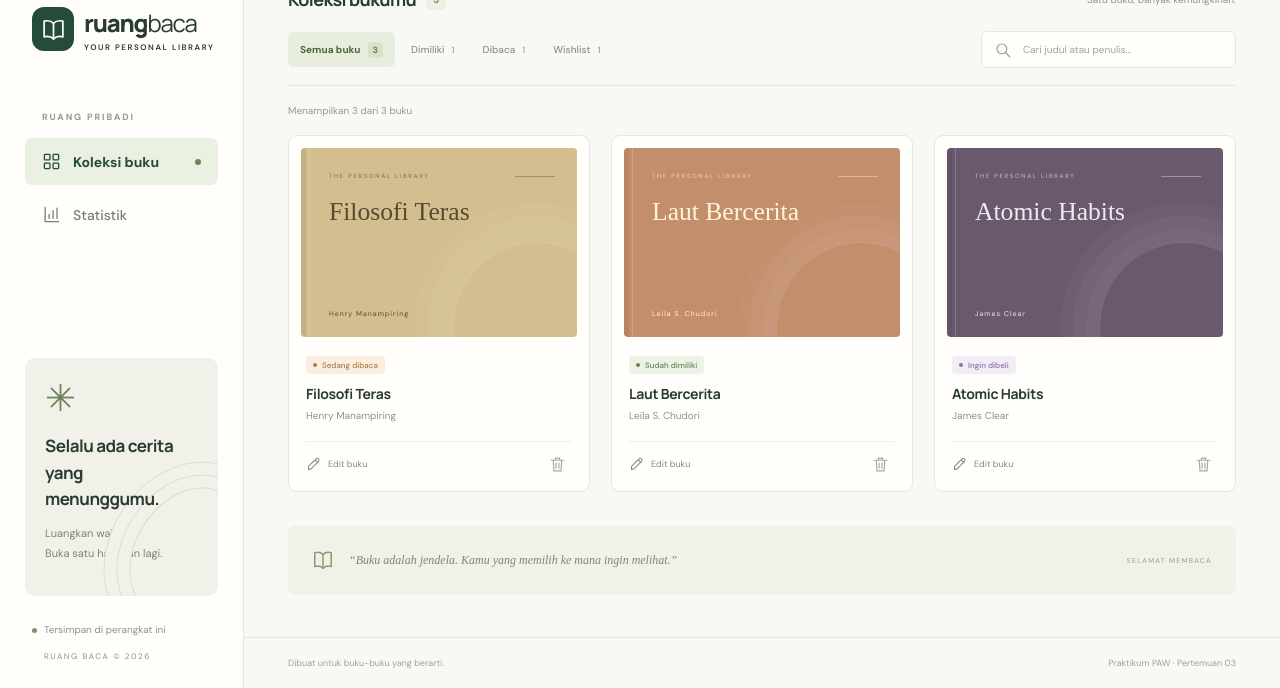
Aplikasi manajemen buku › mengedit judul dan status tanpa menggandakan buku
(page scrolled)
Click the link with aria-label "Edit Filosofi Teras" at (337, 464), box [306,457,367,472]
(page scrolled)
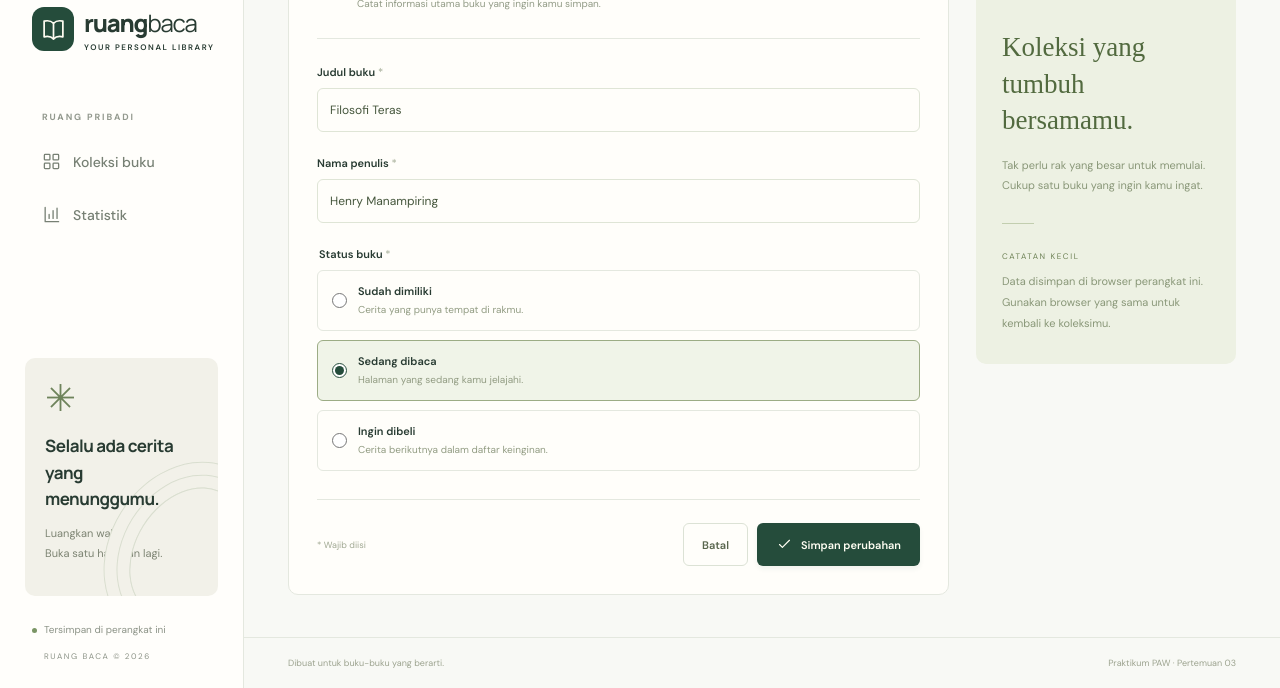
Now the field labelled "Judul buku *" holds "Filosofi Teras"
Replace the text in the field labelled "Judul buku *" with "Filosofi Teras Revisi" at (618, 110), box [317,88,920,132]
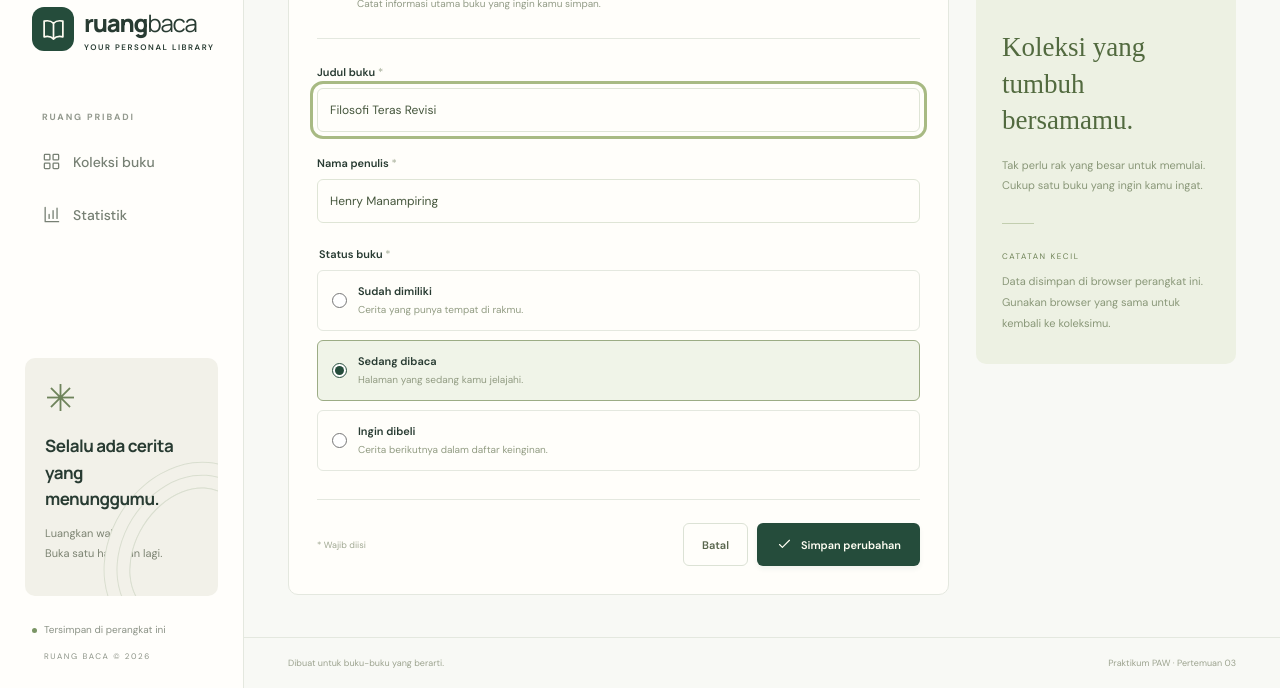
Click the radio button labelled "Sudah dimiliki Cerita yang punya tempat di rakmu." at (340, 301), box [332,293,347,308]
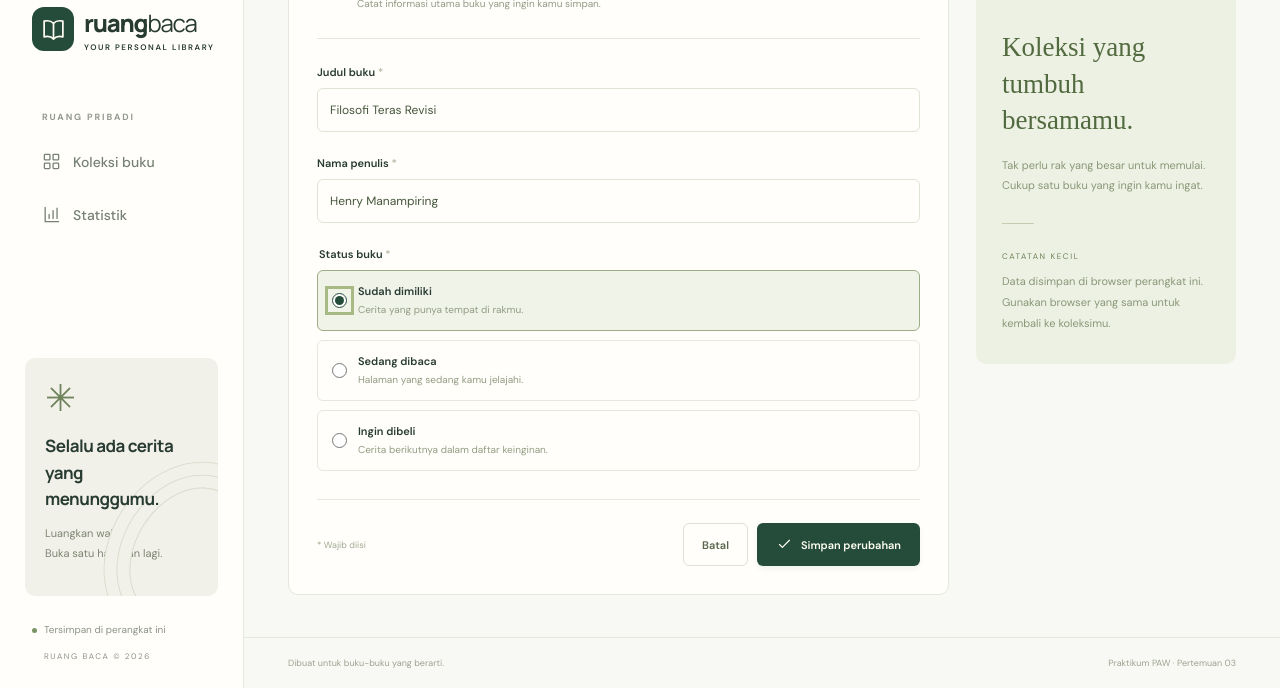
Click the button "Simpan perubahan" at (838, 545), box [757,523,920,566]
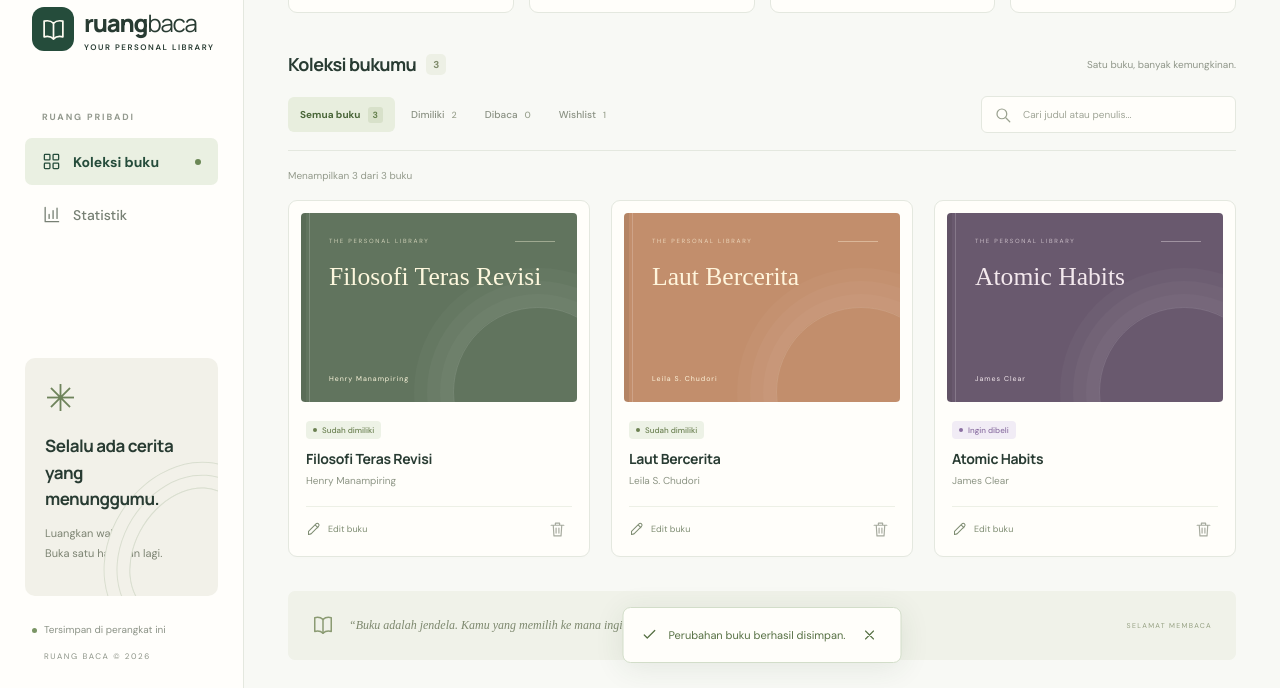
Now the heading "Filosofi Teras Revisi" is shown, box [306,449,432,468]
